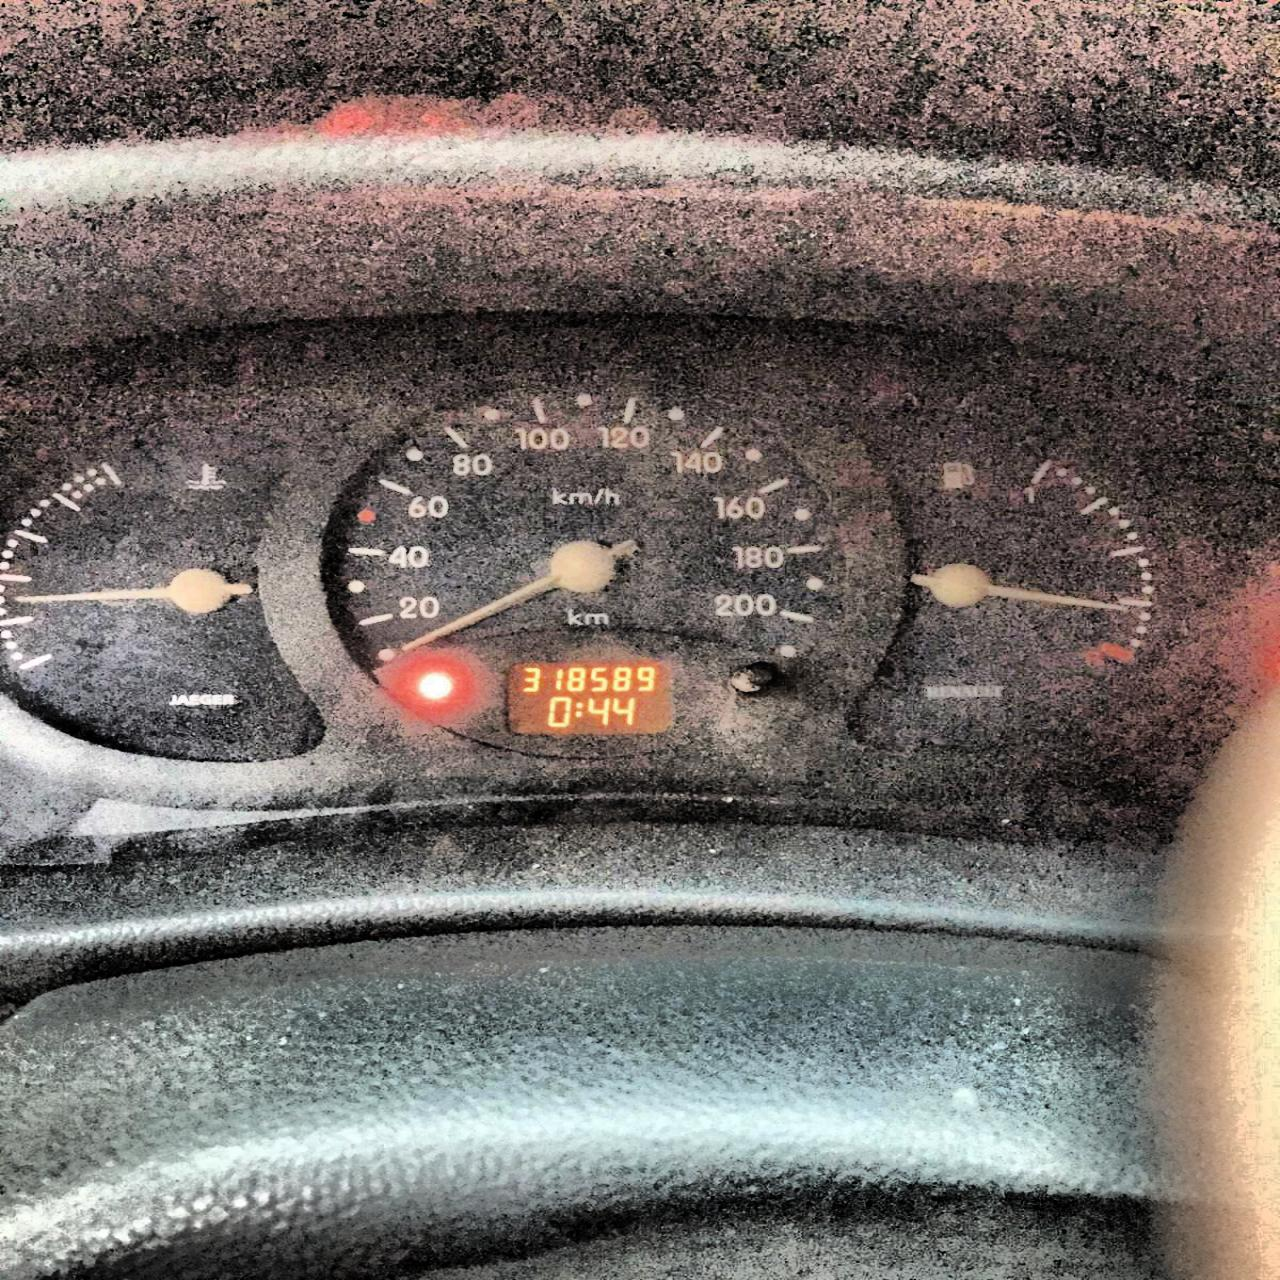0: (546, 695, 572, 727)
1: (553, 667, 563, 690)
3: (522, 667, 539, 692)
4: (611, 697, 635, 726), (587, 697, 611, 726)
5: (588, 667, 607, 692)
8: (611, 667, 632, 692), (566, 667, 585, 692)
9: (636, 666, 655, 690)
X: (573, 701, 583, 716)
odometer: (498, 656, 682, 740)
